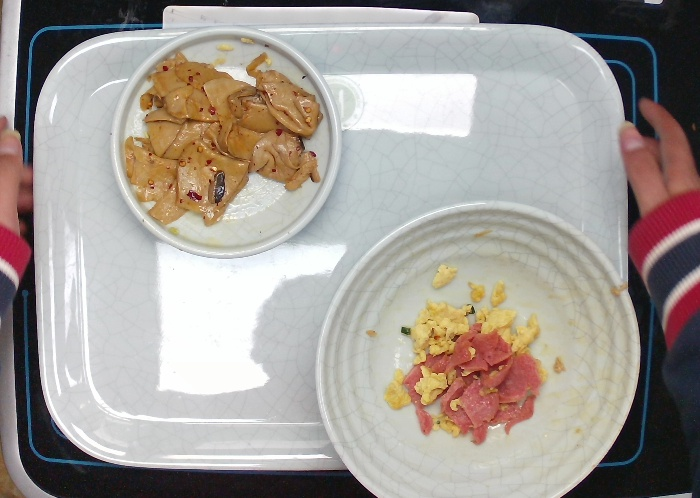JYsf-Da_Tang_Wan: (307, 194, 642, 498)
JYsf-Xiao_Yuan_Pan: (105, 21, 346, 266)
